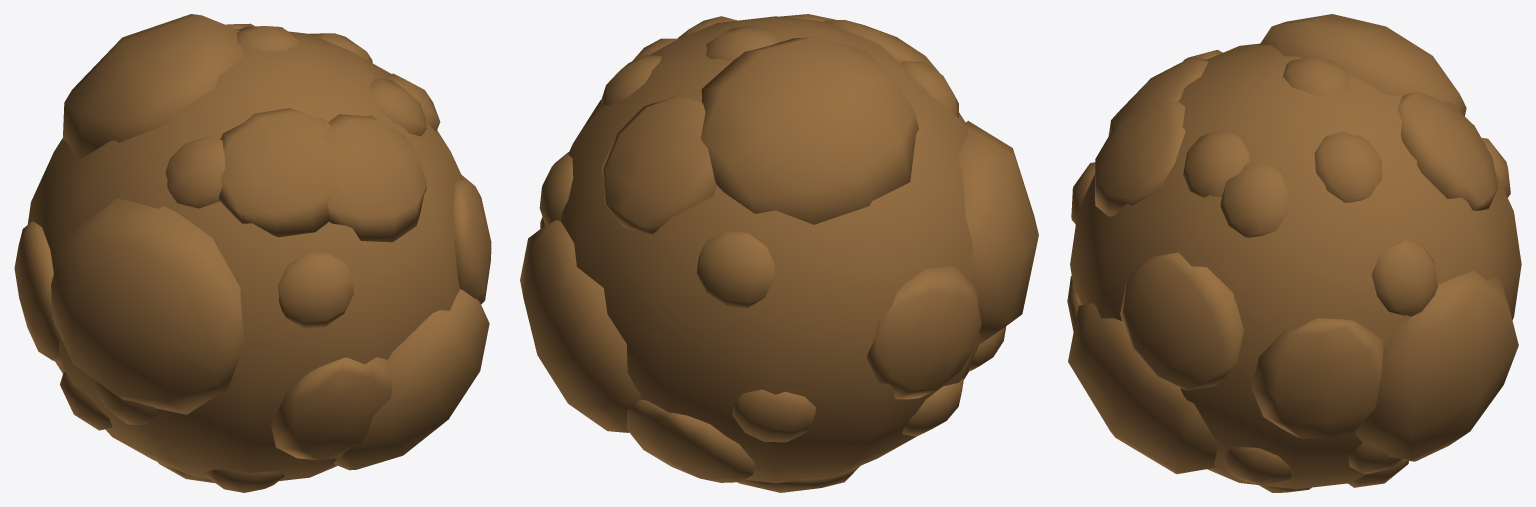
File: SM_AgedGrease.fbx
3 renders of one model, left to right at view 1: azimuth 30°, elevation 25°; view 2: azimuth 150°, elevation 25°; view 3: azimuth 270°, elevation 25°, orthographic. The views are drawn at different scales.
Visible parts, largest first — view 1: AgedGrease; view 2: AgedGrease; view 3: AgedGrease.
Boxes of the visible parts, box(x1,y1,x2,y2) form: AgedGrease: box(14, 14, 491, 492); AgedGrease: box(520, 14, 1038, 492); AgedGrease: box(1067, 14, 1521, 492).
Size of the model in its own units: 1403 by 1403 by 1340.
